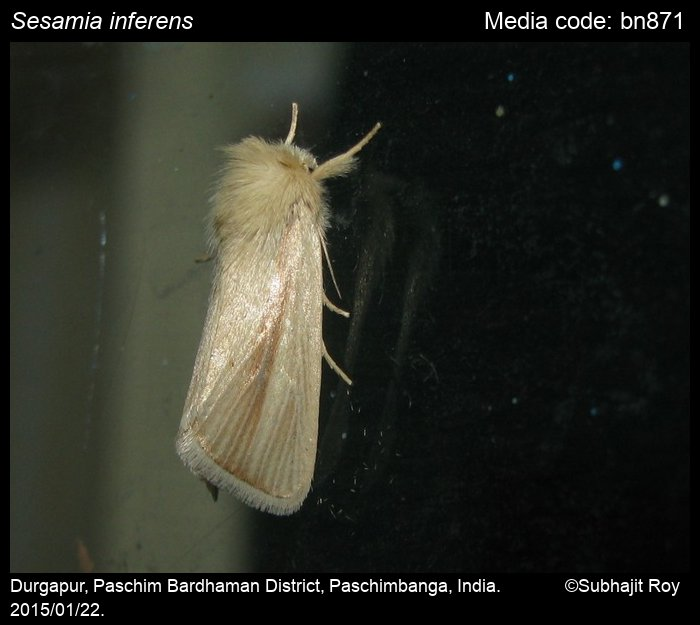Noctuidae: (175, 99, 378, 515)
